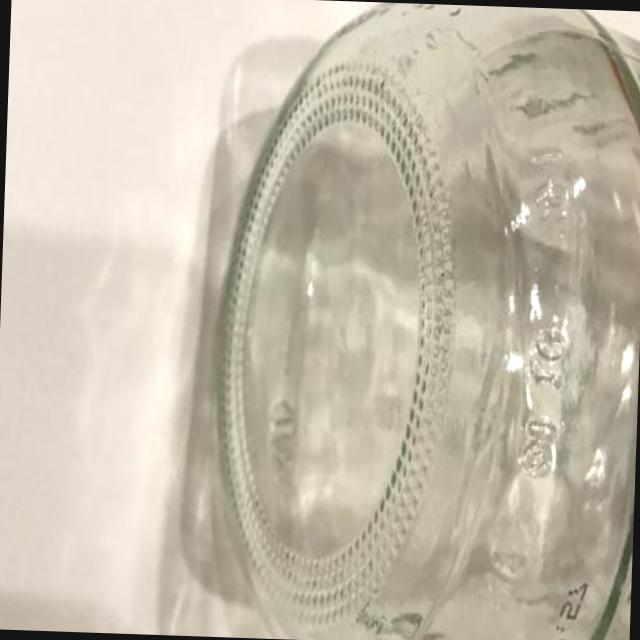chai_thuy_tinh: (217, 2, 640, 640)
